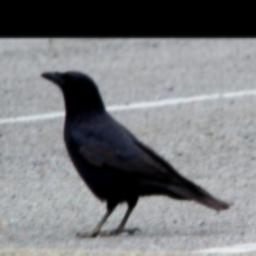Crow: (40, 70, 231, 238)
